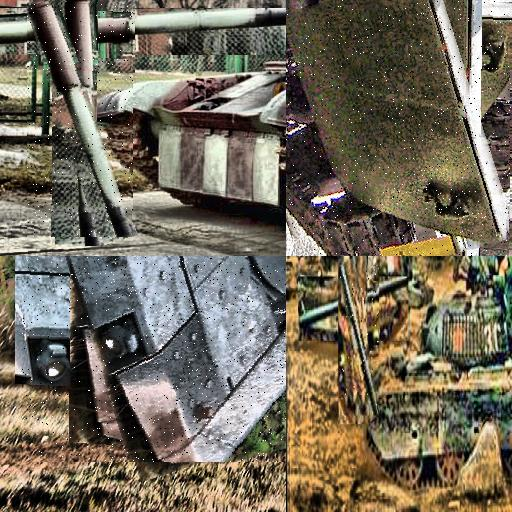tanks: (287, 1, 512, 257), (70, 257, 287, 463), (362, 285, 512, 488), (99, 63, 287, 206), (28, 3, 135, 238), (287, 257, 434, 317), (300, 287, 408, 354), (340, 263, 380, 416)
